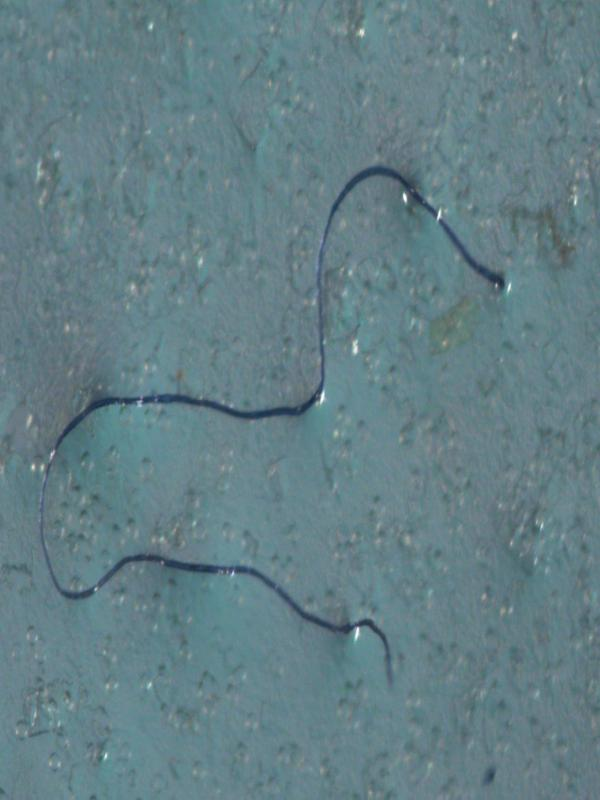microplastic: (38, 163, 507, 686)
